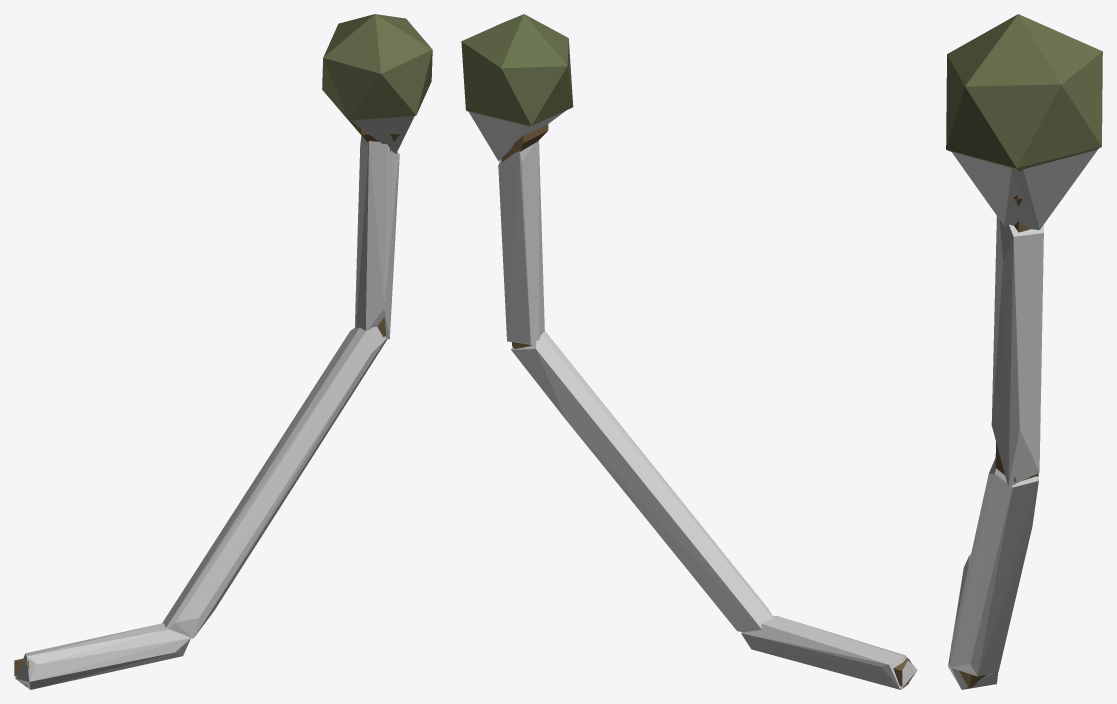
Rendered from SM_Bld_Planetarium_01_ring01_Planet_01.fbx.
3 renders of one model, left to right at view 1: azimuth 30°, elevation 25°; view 2: azimuth 150°, elevation 25°; view 3: azimuth 270°, elevation 25°, orthographic. The views are drawn at different scales.
Visible parts, largest first — view 1: SM_Bld_Planetarium_01_ring01_Planet_01_ConvexHulls, SM_Bld_Planetarium_01_ring01_Planet_01; view 2: SM_Bld_Planetarium_01_ring01_Planet_01_ConvexHulls, SM_Bld_Planetarium_01_ring01_Planet_01; view 3: SM_Bld_Planetarium_01_ring01_Planet_01_ConvexHulls, SM_Bld_Planetarium_01_ring01_Planet_01.
Boxes of the visible parts, x1,y1,x2,y2 form: SM_Bld_Planetarium_01_ring01_Planet_01_ConvexHulls: (15, 116, 414, 689); SM_Bld_Planetarium_01_ring01_Planet_01: (14, 14, 432, 686); SM_Bld_Planetarium_01_ring01_Planet_01_ConvexHulls: (468, 110, 917, 689); SM_Bld_Planetarium_01_ring01_Planet_01: (461, 14, 910, 686); SM_Bld_Planetarium_01_ring01_Planet_01_ConvexHulls: (948, 149, 1097, 689); SM_Bld_Planetarium_01_ring01_Planet_01: (946, 14, 1102, 688).
Bounding box in the file's own units: 41.89 × 9.45 × 54.95.
Materials: 2 (1 with a texture image).
